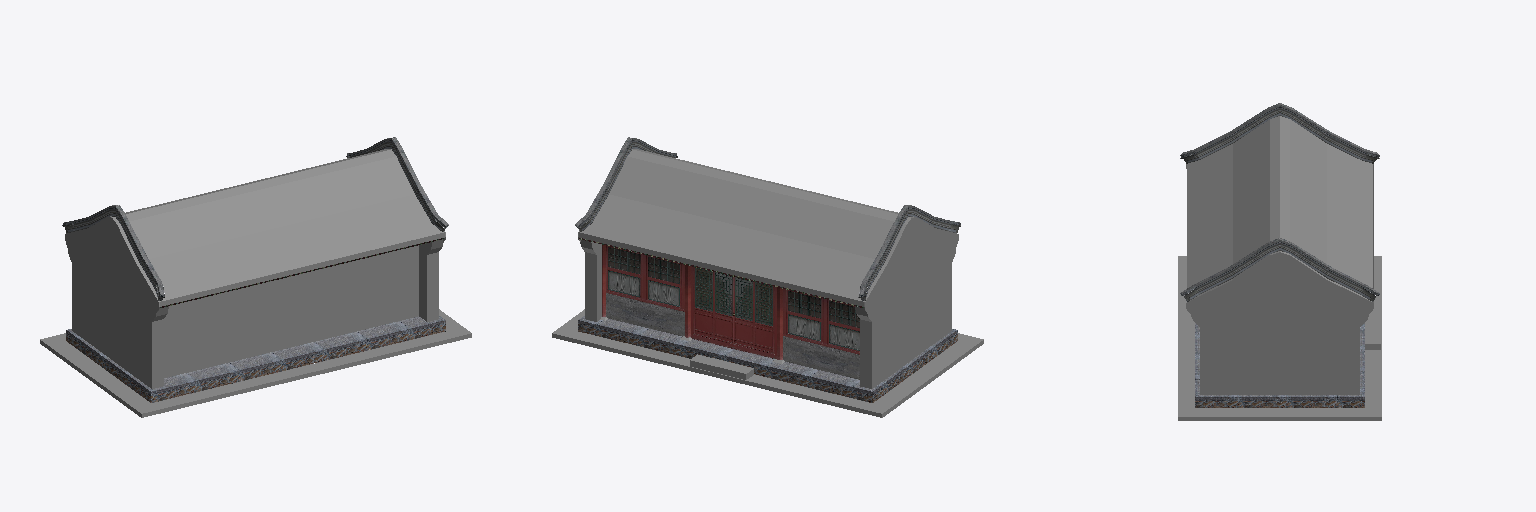
The picture shows the model from 3 angles: view 1: azimuth 30°, elevation 25°; view 2: azimuth 150°, elevation 25°; view 3: azimuth 270°, elevation 25°; orthographic projection.
Parts seen in each view (by area): view 1: polySurface89; view 2: polySurface89; view 3: polySurface89.
Boxes of the visible parts, x1=… form: polySurface89: x1=40, y1=137, x2=471, y2=417; polySurface89: x1=552, y1=137, x2=983, y2=417; polySurface89: x1=1178, y1=103, x2=1381, y2=420.
Size of the model in its own units: 11.39 by 5.57 by 6.08.
11 materials, 6 textured.